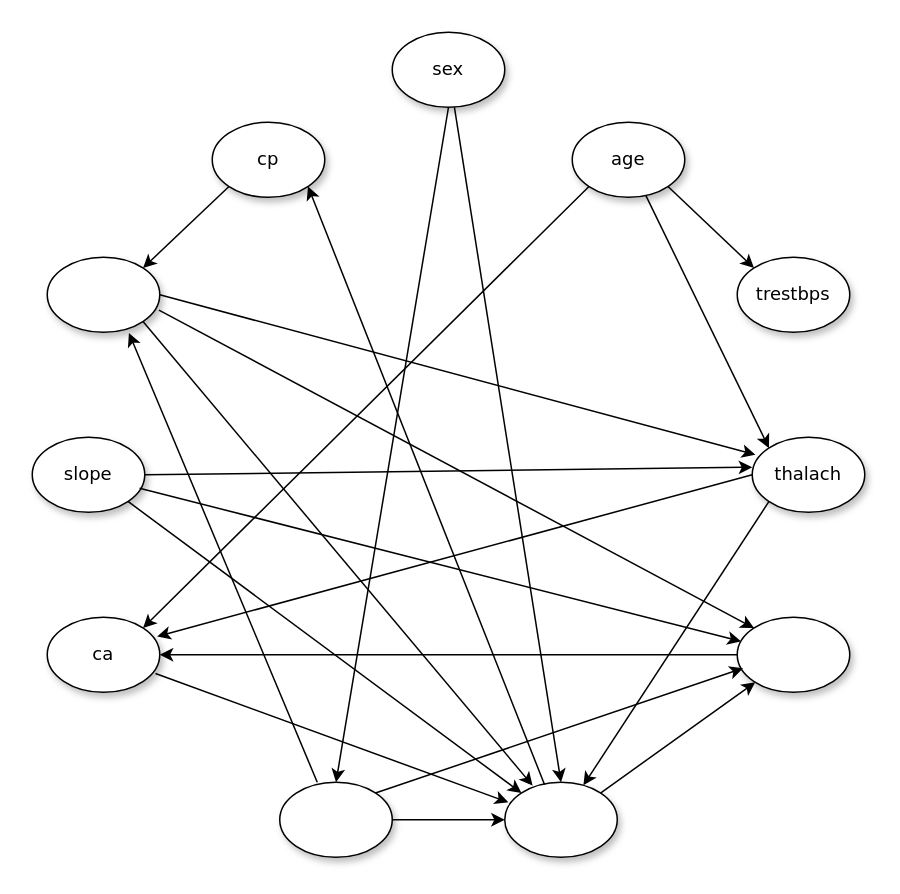
Image size: 900x894. Some labels were removed from this diagram. Here are the shapes that lost their labels. From the top down, the centre of each, then its label:
At pixel 104 296: "exang".
At pixel 794 656: "oldpeak".
At pixel 336 821: "thal".
At pixel 561 821: "heartdis".
